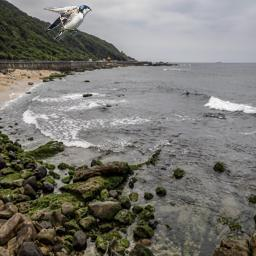Swallow: (40, 4, 92, 44)
